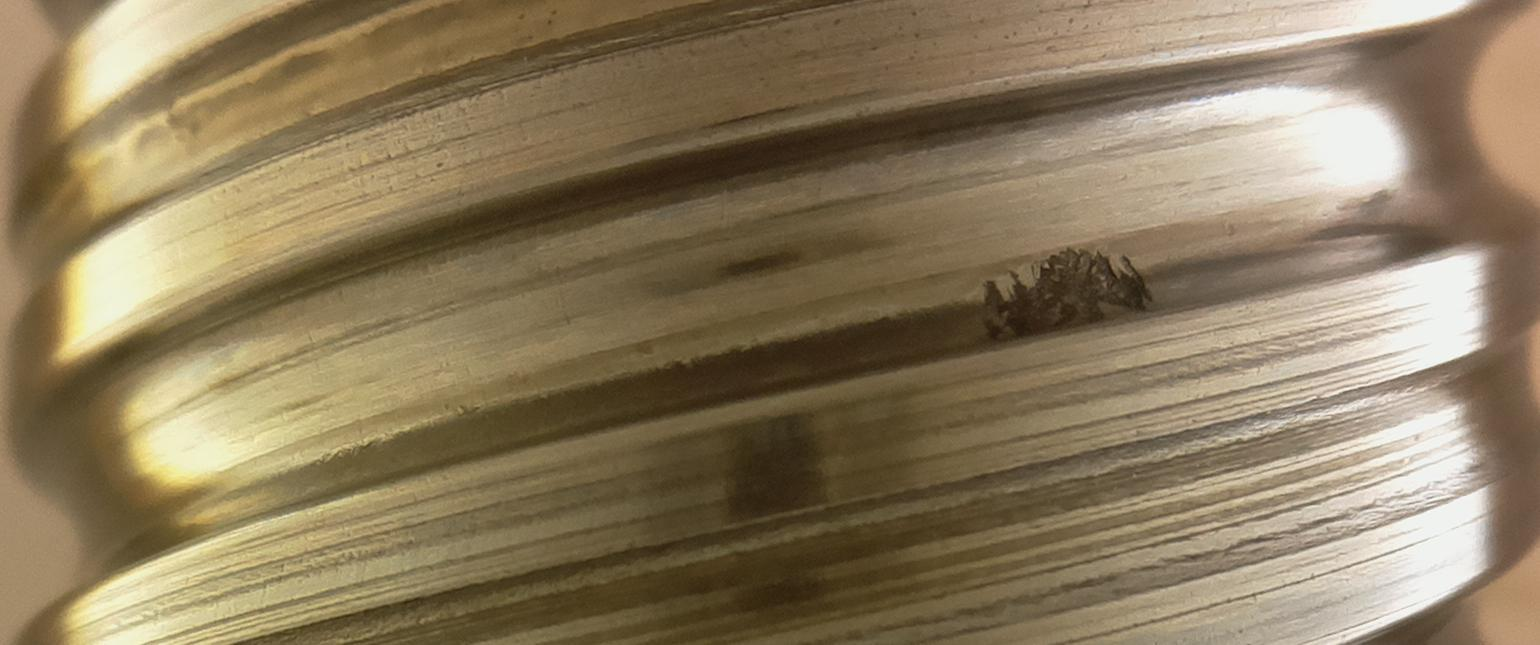pitting: (982, 247, 1152, 342)
